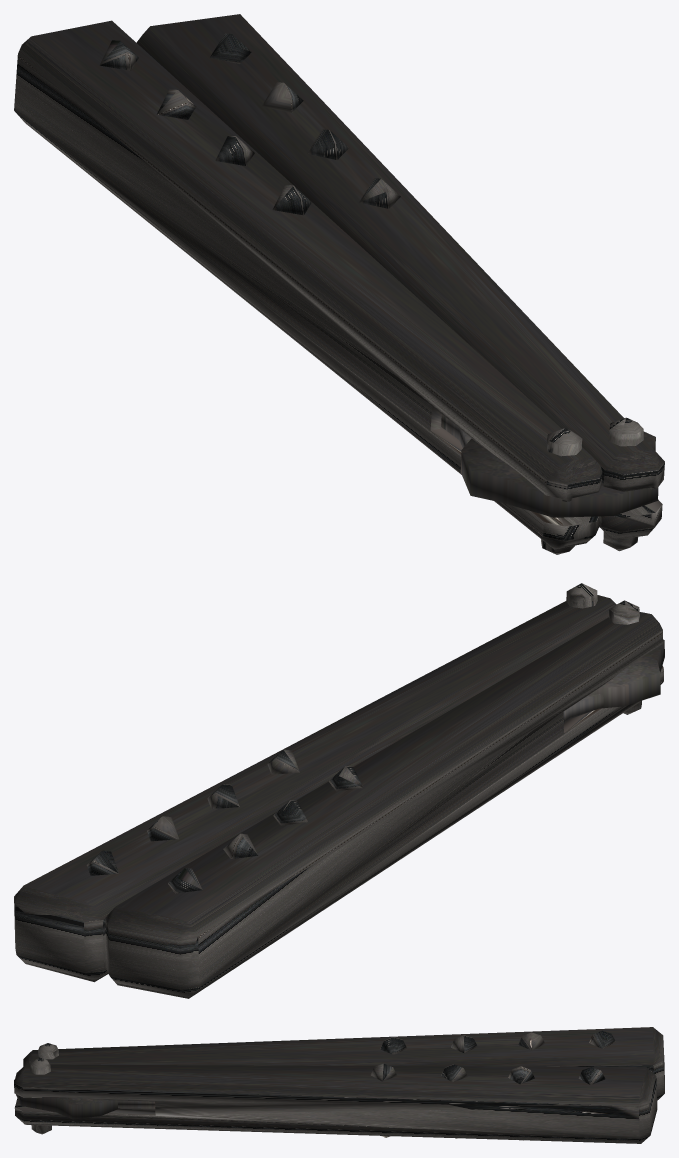
Rendered from PU_Bali.obj.
3 renders of one model, top to bottom at view 1: azimuth 30°, elevation 25°; view 2: azimuth 150°, elevation 25°; view 3: azimuth 270°, elevation 25°, orthographic. The views are drawn at different scales.
Parts seen in each view (by area): view 1: PU_Bali; view 2: PU_Bali; view 3: PU_Bali.
Part boxes in pixels (left/top/right/bottom): PU_Bali: left=14, top=14, right=664, bottom=554; PU_Bali: left=14, top=583, right=664, bottom=998; PU_Bali: left=14, top=1027, right=664, bottom=1143.
Size of the model in its own units: 0.0396 by 0.0243 by 0.1471.
1 material, 1 textured.
